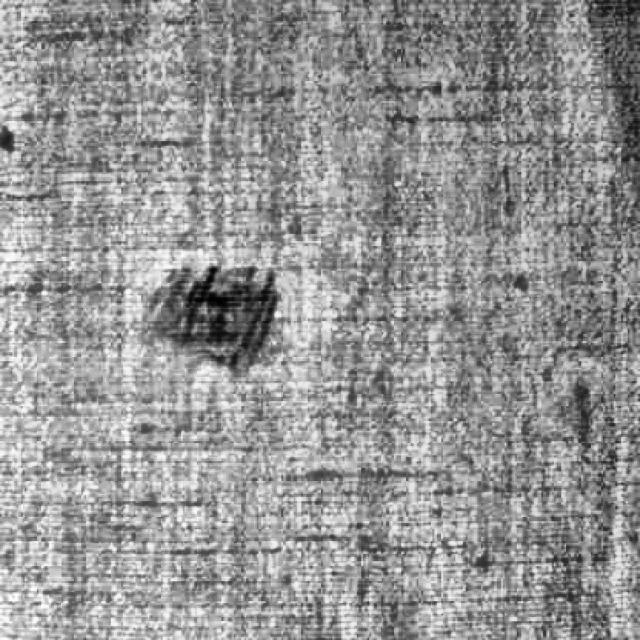oil_spot: (140, 253, 288, 383)
